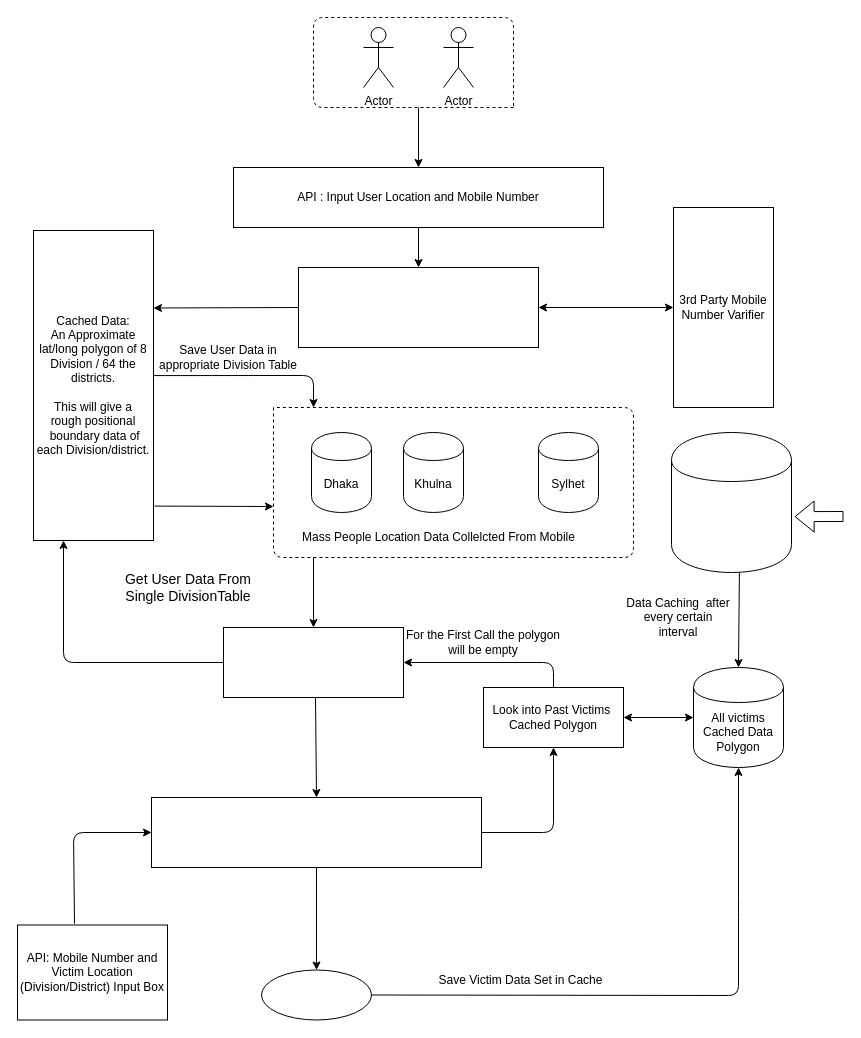
Image size: 861x1038. Some labels were removed from this diagram. Here are the shapes that lost their labels. From the top down, the centre of each, then its label:
point 418,307: Verify Mobile Number using Two factor Authentication (OTP)
point 731,502: Govt. Provided Victim Data Set
point 313,662: Location Matcher Service (Search Close contacts after filtering out the cache)
point 316,832: Service
point 316,994: Result
